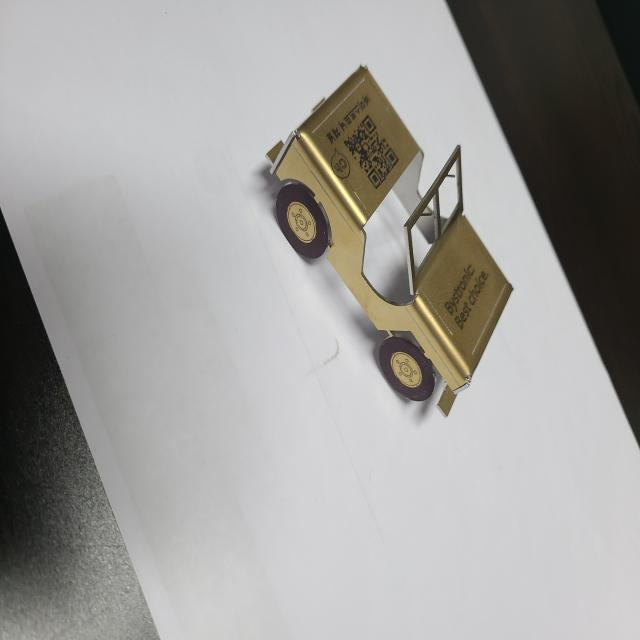tire: (276, 181, 328, 260), (379, 336, 437, 402)
